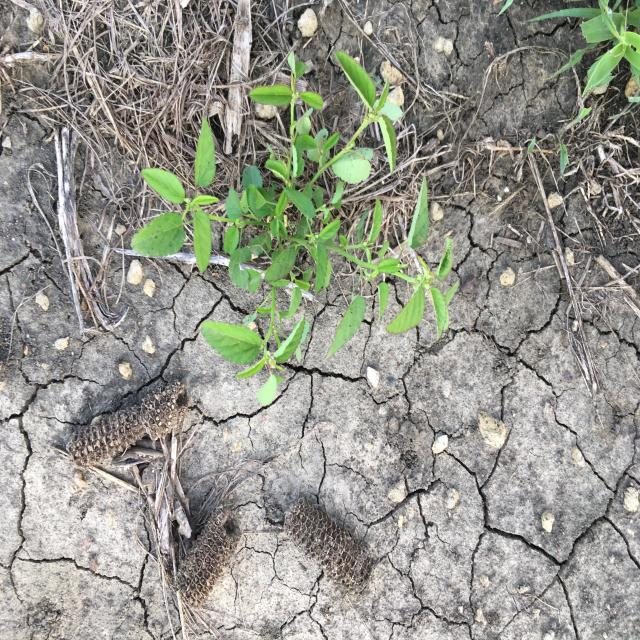PricklySida: (129, 48, 463, 410)
